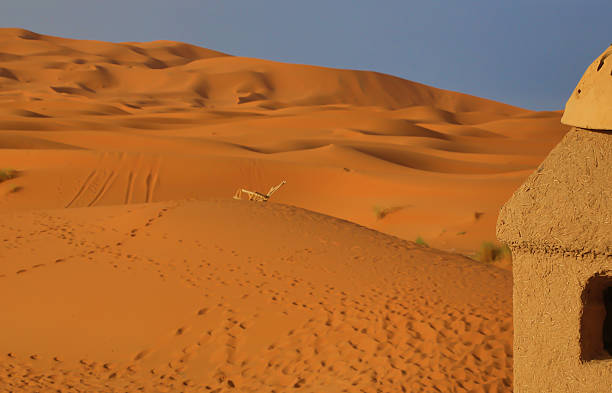animal_footprint: (140, 248, 503, 389), (9, 290, 212, 367), (17, 201, 175, 280)
